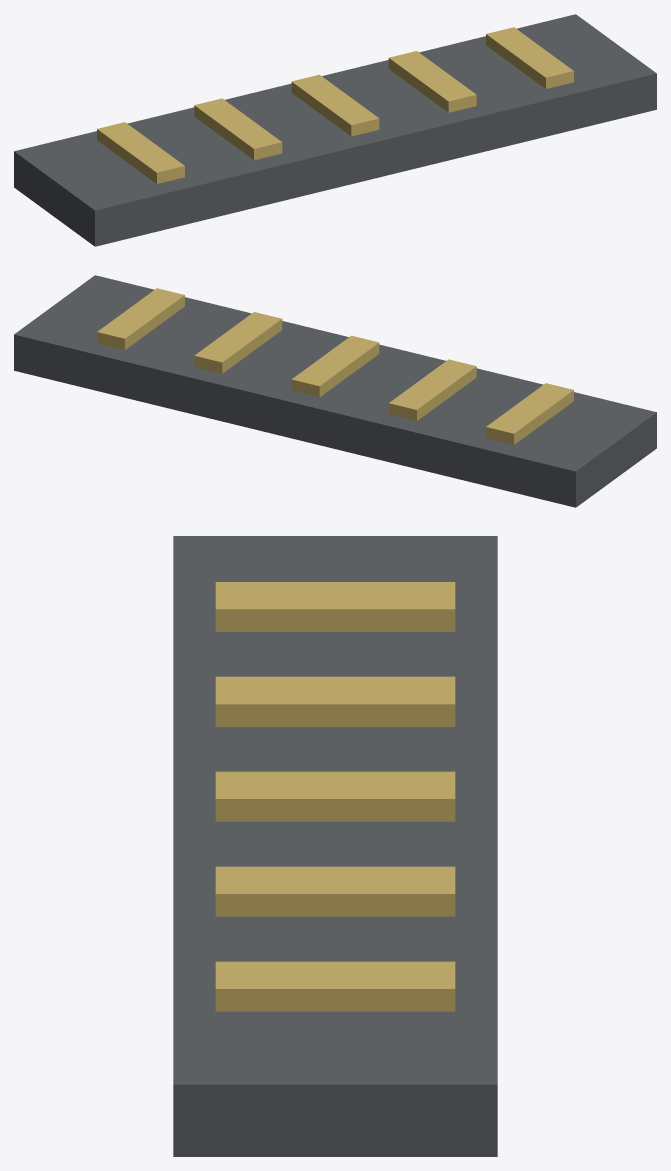
File: cable_guard_lod1.glb
The picture shows the model from 3 angles, top to bottom: view 1: azimuth 30°, elevation 25°; view 2: azimuth 150°, elevation 25°; view 3: azimuth 270°, elevation 25°; orthographic projection. The views are drawn at different scales.
Visible parts, largest first — view 1: part_0, part_3, part_2, part_4, part_1, part_5; view 2: part_0, part_3, part_2, part_4, part_1, part_5; view 3: part_0, part_2, part_3, part_4, part_5, part_1.
Part boxes in pixels (left/top/right/bottom): part_0: left=14, top=14, right=656, bottom=246; part_3: left=291, top=74, right=379, bottom=136; part_2: left=194, top=98, right=282, bottom=160; part_4: left=388, top=51, right=476, bottom=112; part_1: left=97, top=122, right=184, bottom=183; part_5: left=486, top=27, right=573, bottom=88; part_0: left=14, top=275, right=656, bottom=507; part_3: left=291, top=335, right=379, bottom=397; part_2: left=388, top=359, right=476, bottom=421; part_4: left=194, top=312, right=282, bottom=373; part_1: left=486, top=383, right=573, bottom=444; part_5: left=97, top=288, right=184, bottom=349; part_0: left=173, top=536, right=497, bottom=1156; part_2: left=215, top=676, right=455, bottom=726; part_3: left=215, top=771, right=455, bottom=821; part_4: left=215, top=866, right=455, bottom=916; part_5: left=215, top=961, right=455, bottom=1011; part_1: left=215, top=582, right=455, bottom=631.
Bounding box in the file's own units: 2.6 × 0.215 × 0.65.
